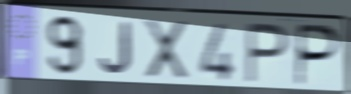4: (198, 21, 237, 84)
9: (44, 13, 86, 79)
J: (97, 20, 134, 76)
P: (293, 22, 343, 89), (243, 21, 292, 87)
X: (142, 18, 191, 81)
